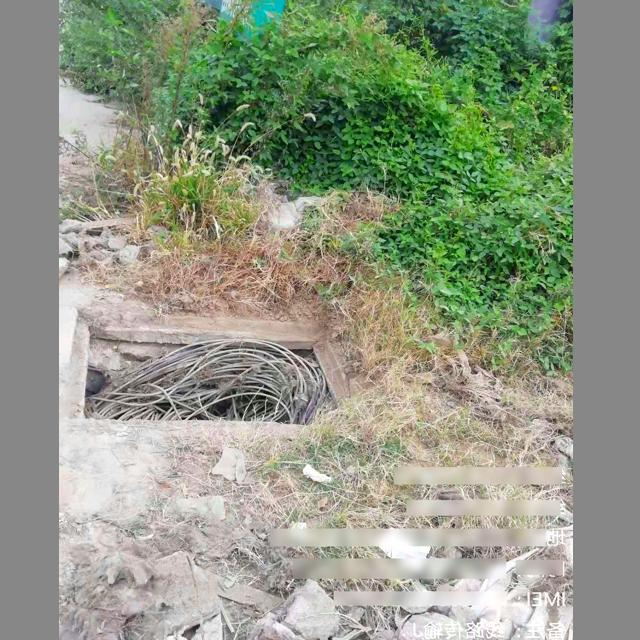lose: (66, 311, 358, 424)
